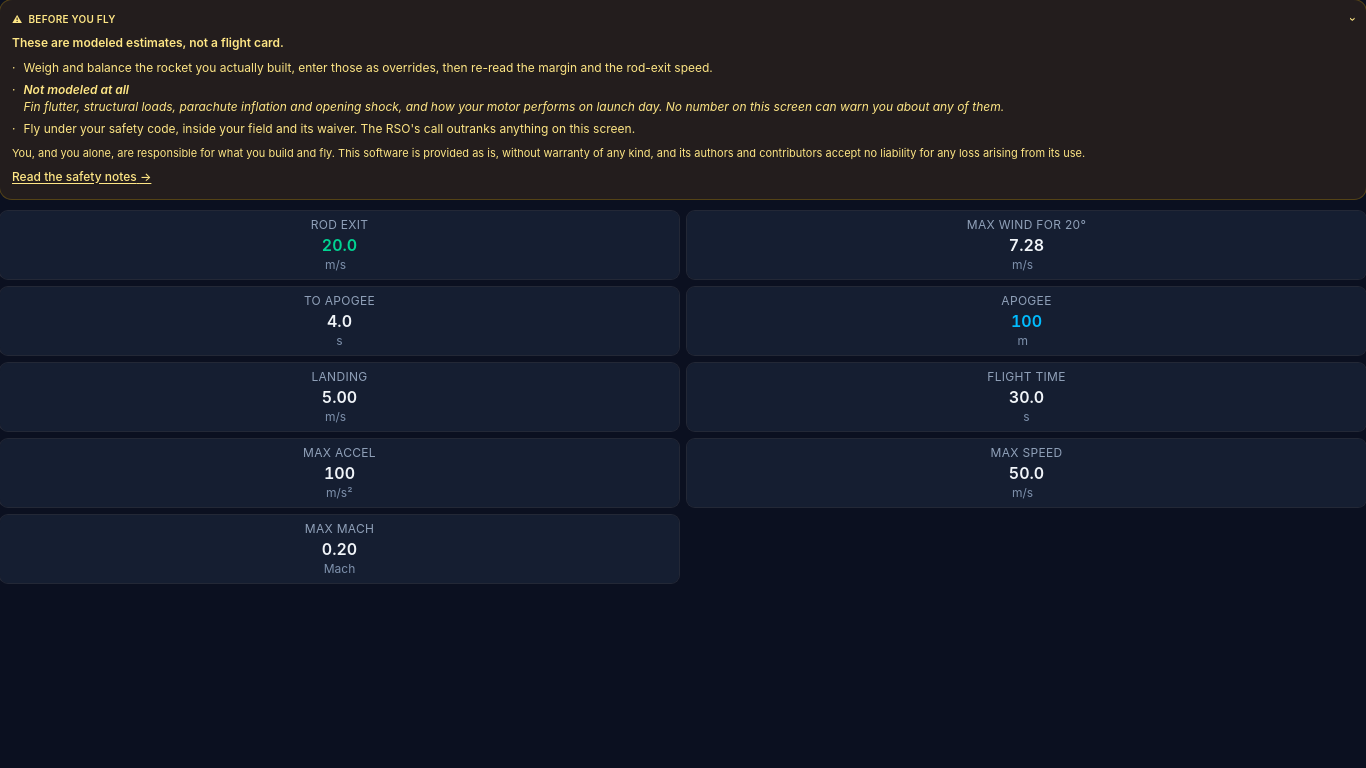
Test: SafetyCard folding › folds the body away once acknowledged, keeping the heading and its glyph
This screenshot has width=1366, height=768.
What coordinates should you click on to do the following:
click the button "⚠ Before you fly ›"
I would click on:
 (72, 19)
Its box is [12,12,1354,27].
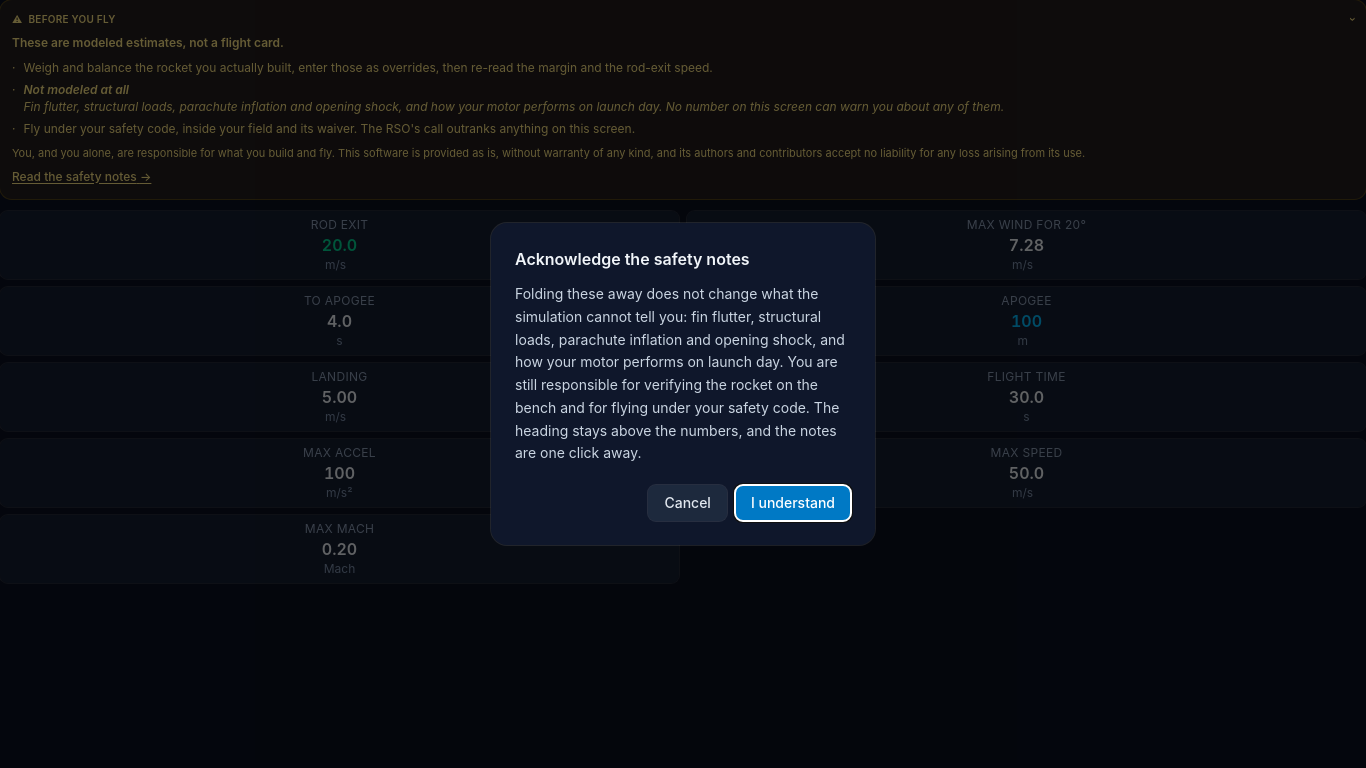
What coordinates should you click on to do the following:
click the button "I understand"
I would click on:
 (793, 503)
Its box is [735,485,851,521].
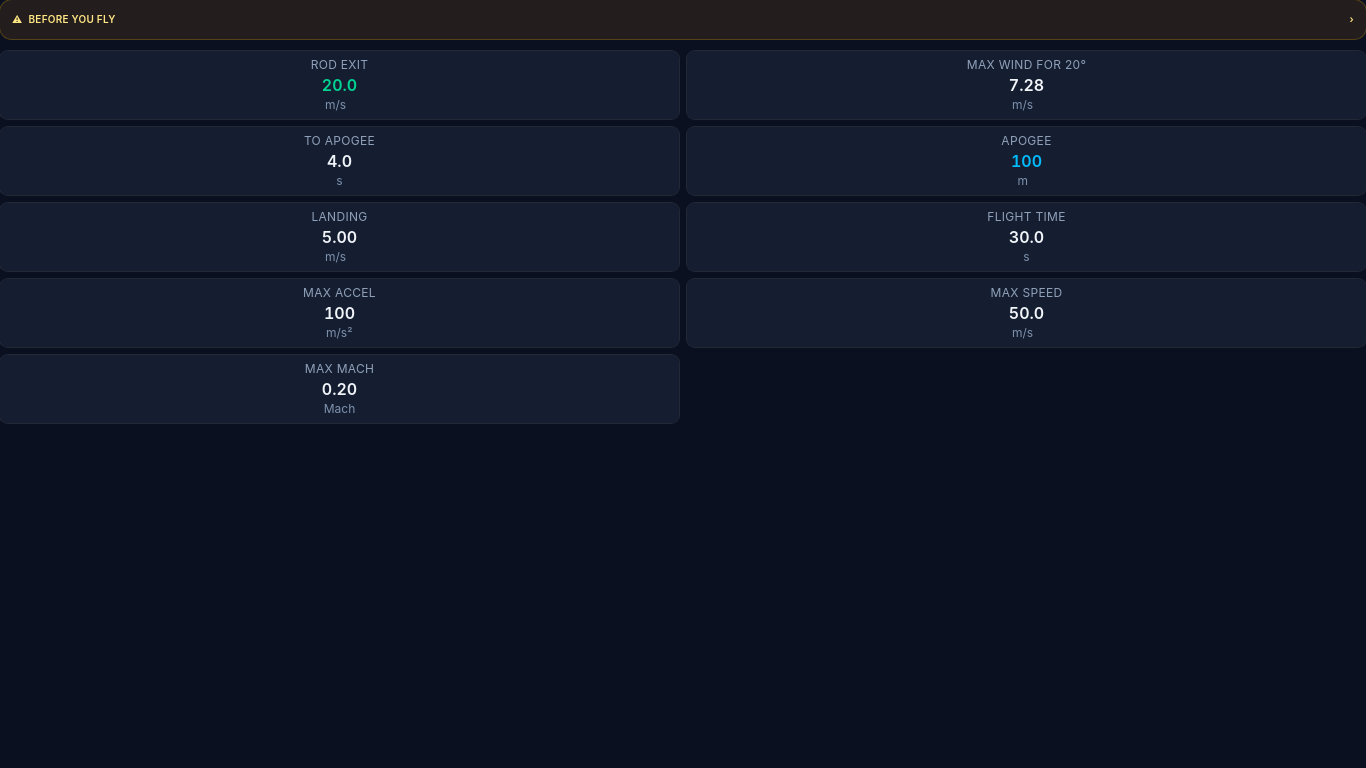
Expected: the button "⚠ Before you fly ›" is shown, [12,12,1354,27]
Expected: the text "Not modeled at all" is gone
Expected: the button "⚠ Before you fly ›" is collapsed, [12,12,1354,27]
